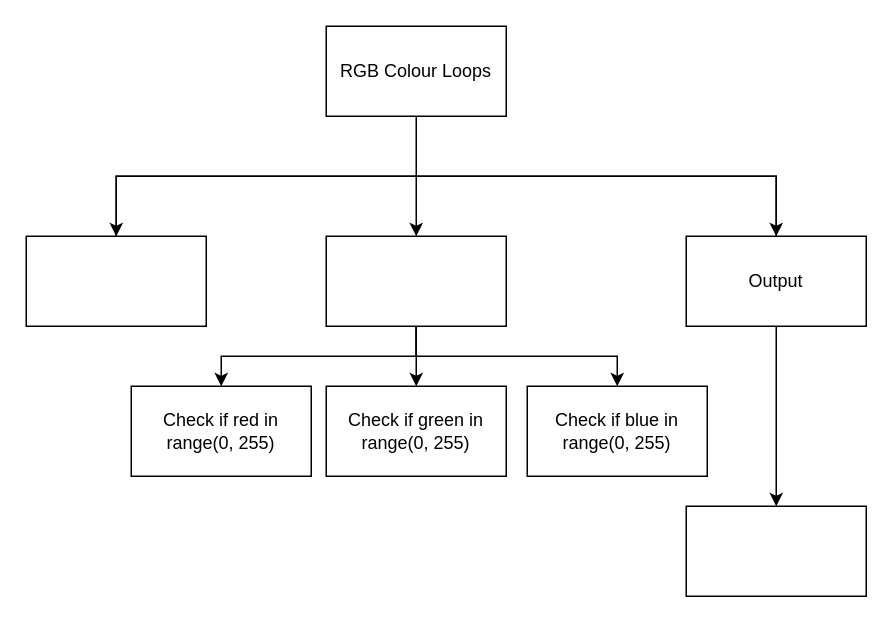
This 893x623 diagram has some shape labels left out. The centre of each missing label's shape, as x and y in pixels:
"Input" belongs at pixel 115 280.
"Process" belongs at pixel 415 280.
"Show RGB({0},{1},{2})" belongs at pixel 775 550.
